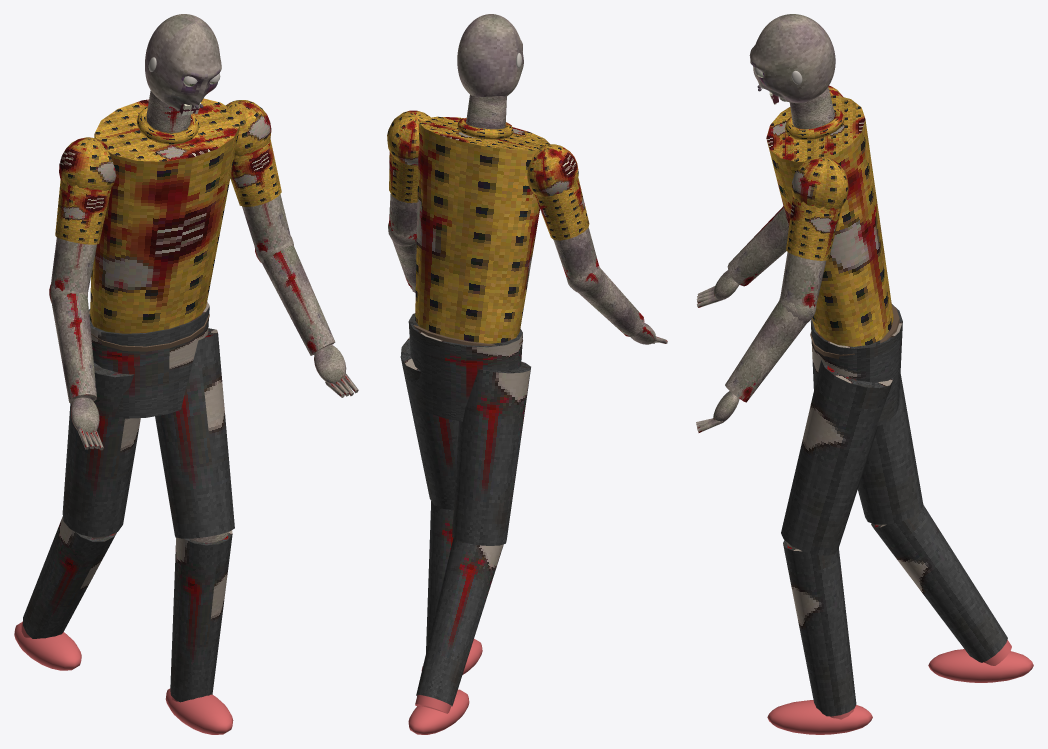
File: Zombie_003.glb
3 views of the same model, side by side, from view 1: azimuth 30°, elevation 25°; view 2: azimuth 150°, elevation 25°; view 3: azimuth 270°, elevation 25° (orthographic). The views are drawn at different scales.
Parts seen in each view (by area): view 1: Zombie_003, object 16, object 10, object 3, object 11, object 4; view 2: Zombie_003, object 16, object 3, object 10, object 2; view 3: Zombie_003, object 16, object 10, object 3.
Boxes of the visible parts, x1,y1,x2,y2 form: Zombie_003: (14,90,291,734); object 16: (145,14,221,110); object 10: (261,245,335,355); object 3: (51,293,96,404); object 11: (314,344,346,383); object 4: (71,397,99,433); Zombie_003: (387,94,598,734); object 16: (457,14,523,96); object 3: (578,268,644,336); object 10: (392,241,416,288); object 2: (566,265,600,293); Zombie_003: (766,85,1033,734); object 16: (749,14,835,103); object 10: (725,301,806,402); object 3: (727,206,788,286).
Bounding box in the file's own units: 0.7797 × 1.98 × 0.8633.
Materials: 15 (5 with a texture image).
